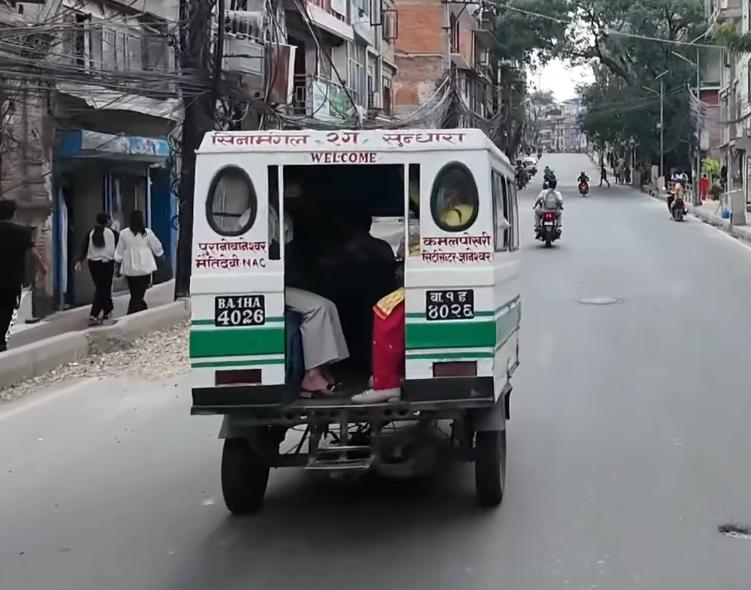bike: (532, 196, 567, 249)
tempo: (182, 117, 539, 516)
